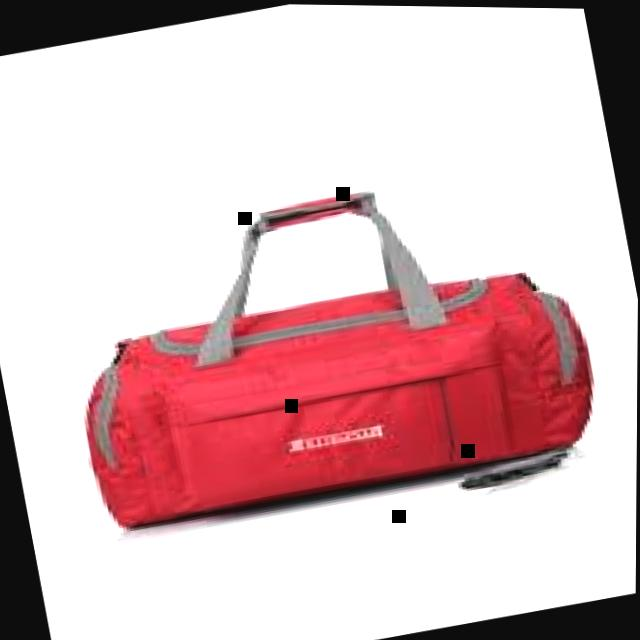luggage: (56, 236, 625, 557)
